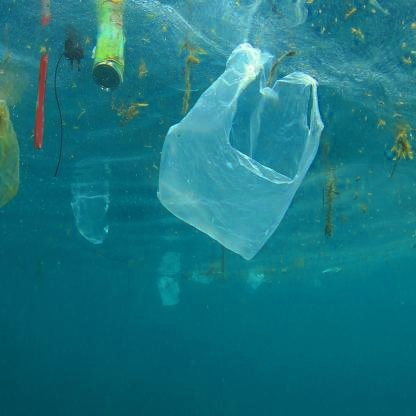can: (92, 21, 127, 91)
electronics: (52, 28, 86, 182)
pbag: (156, 42, 324, 260), (69, 193, 113, 247), (33, 51, 49, 150), (156, 276, 182, 308)
